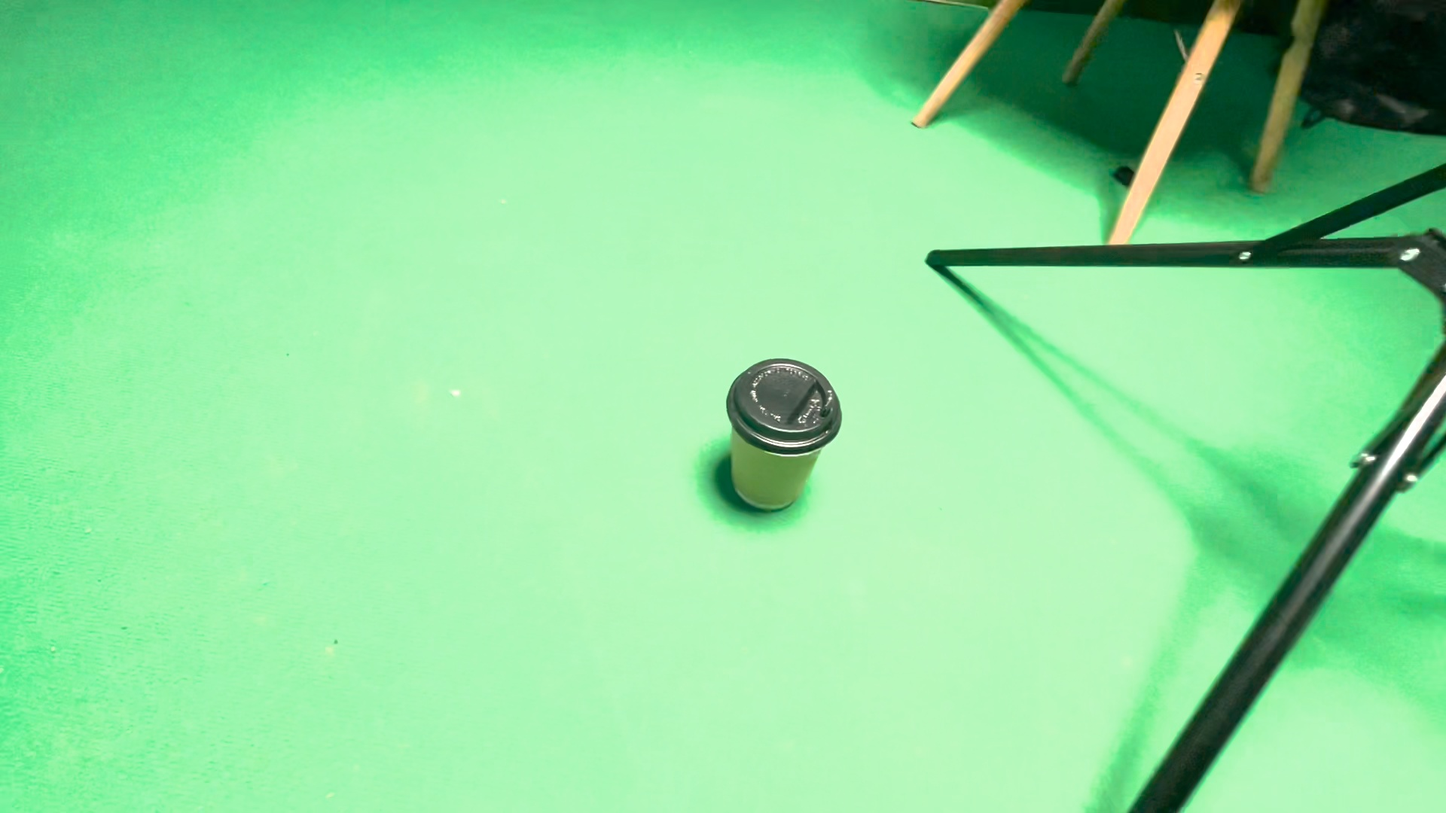cup: (697, 441, 821, 624)
